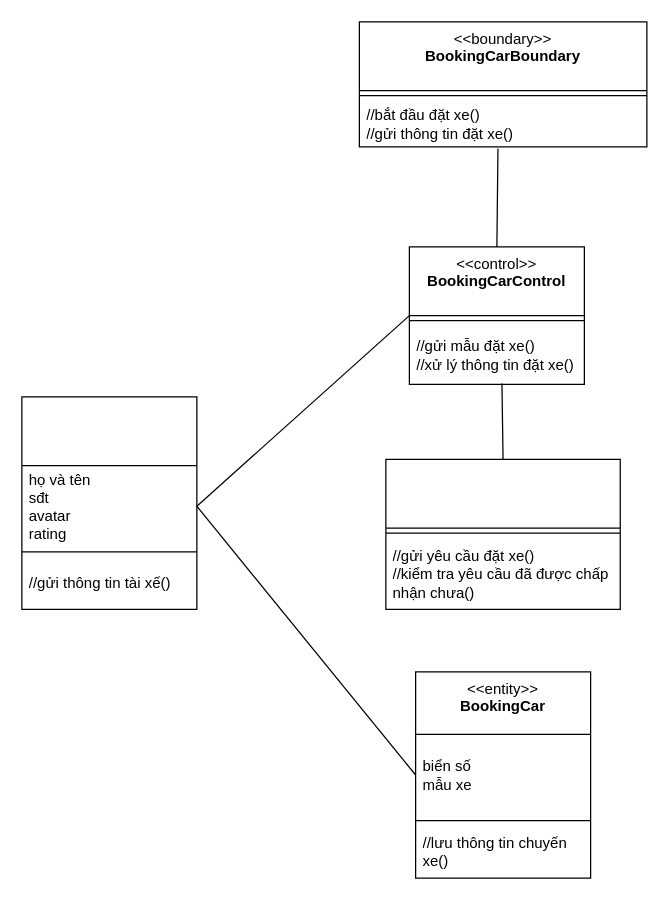
Some shapes in this 669 by 900 pixel diagram are drawn without their labels. Each missing label, with the box of its shape:
<<control>> Request: (385, 458, 620, 609)
<<entity>> Driver: (21, 396, 197, 609)
